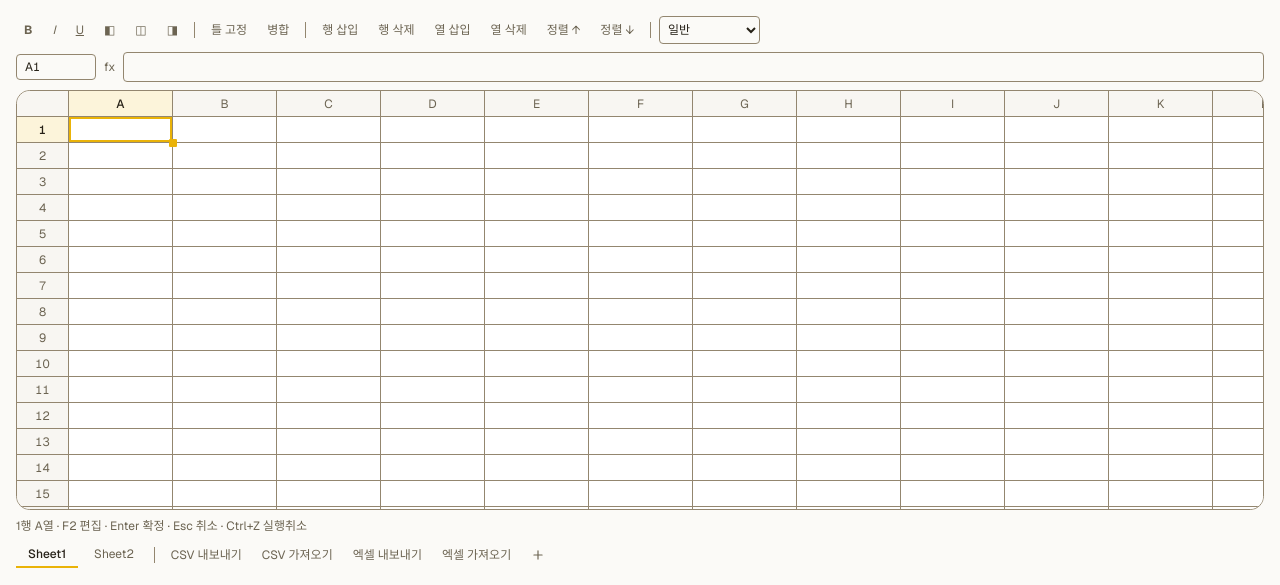
it: SheetPanel 시트 탭 › 다른 시트의 셀을 수식으로 참조할 수 있다 (AC-7)
Type "=Sheet2!A1+1" into the field named "셀 편집" at (121, 130), box [69,117,173,143]
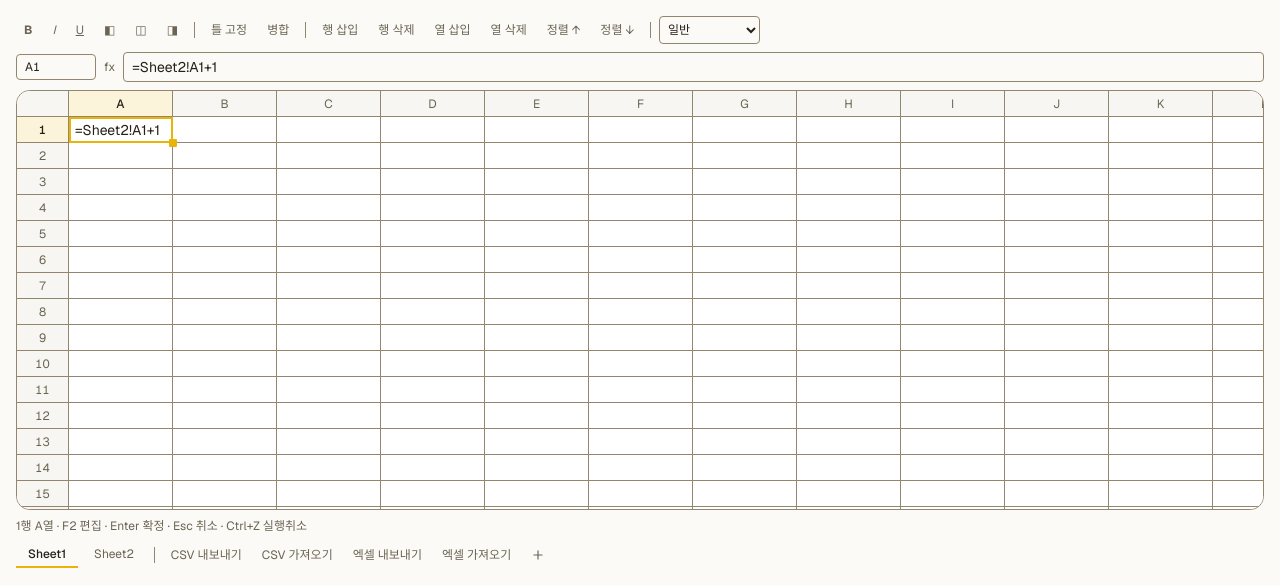
Press Enter in the field named "셀 편집", box [69,117,173,143]
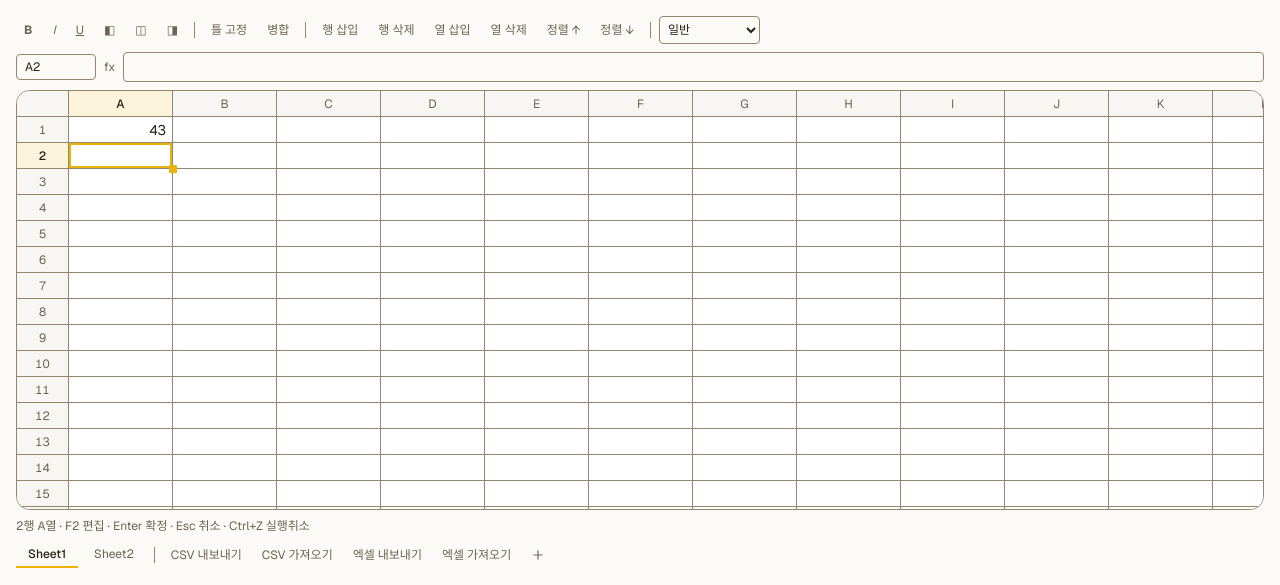
Check: the cell "43" is shown, box [69,117,173,143]
